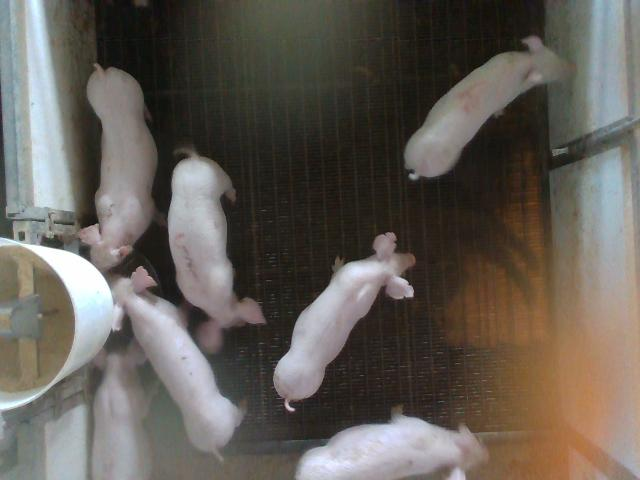pig-3: (169, 148, 265, 353)
pig-4: (404, 36, 574, 179)
